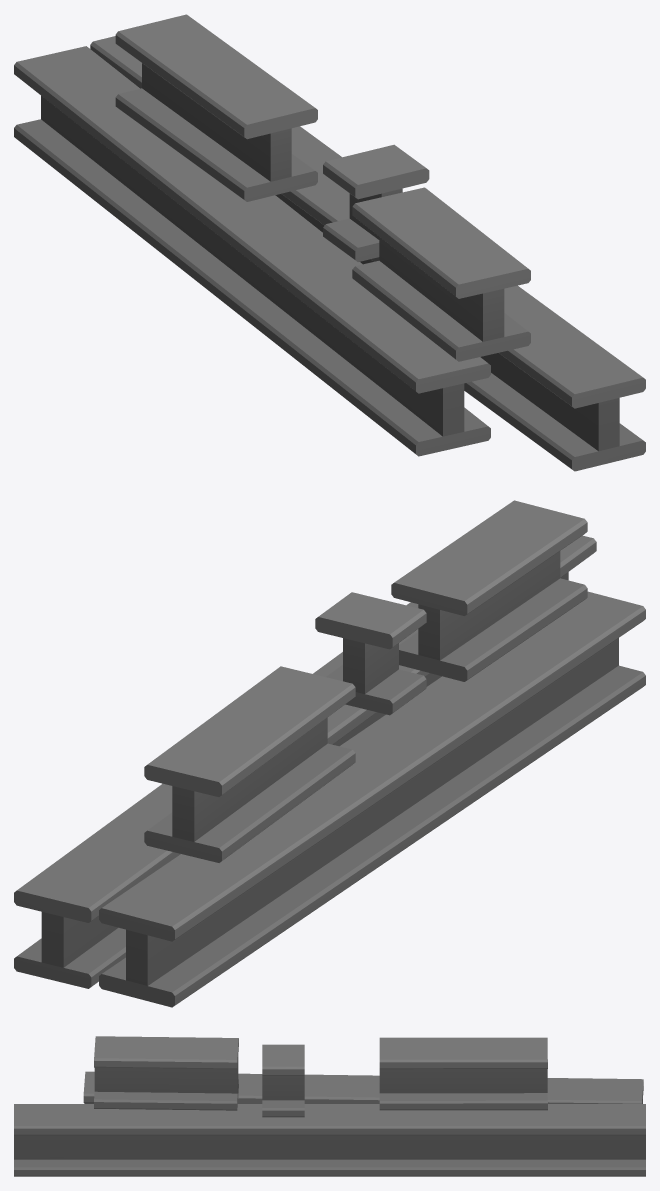
The model's file is Rails_C_4_3.fbx.
The picture shows the model from 3 angles, top to bottom: view 1: azimuth 30°, elevation 25°; view 2: azimuth 150°, elevation 25°; view 3: azimuth 270°, elevation 25°; orthographic projection. The views are drawn at different scales.
Visible parts, largest first — view 1: Rails_C_4_3; view 2: Rails_C_4_3; view 3: Rails_C_4_3.
Boxes of the visible parts, x1=… form: Rails_C_4_3: x1=14, y1=14, x2=645, y2=471; Rails_C_4_3: x1=14, y1=500, x2=645, y2=1007; Rails_C_4_3: x1=14, y1=1036, x2=645, y2=1176.
Bounding box in the file's own units: 88.98 × 74.86 × 423.
